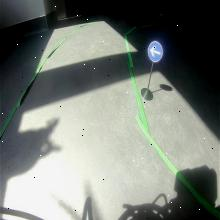left: (147, 40, 164, 64)
